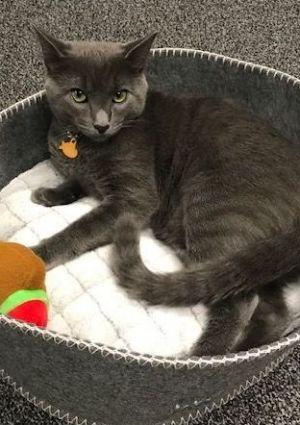rblue: (22, 1, 173, 142)
